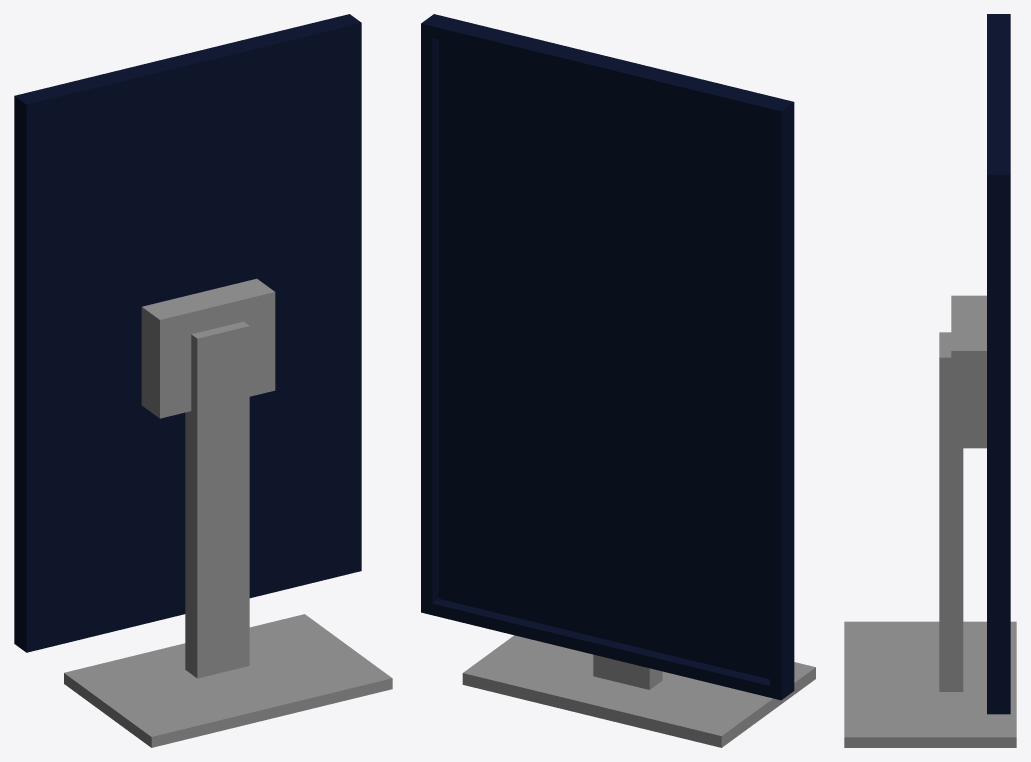
The model's file is Monitor_02_snaps001.fbx.
3 views of the same model, side by side, from view 1: azimuth 30°, elevation 25°; view 2: azimuth 150°, elevation 25°; view 3: azimuth 270°, elevation 25° (orthographic). The views are drawn at different scales.
Parts seen in each view (by area): view 1: Monitor_02_snaps001; view 2: Monitor_02_snaps001; view 3: Monitor_02_snaps001.
Part boxes in pixels (x1=…): Monitor_02_snaps001: x1=14, y1=14, x2=392, y2=747; Monitor_02_snaps001: x1=421, y1=14, x2=815, y2=747; Monitor_02_snaps001: x1=844, y1=14, x2=1016, y2=747.
Size of the model in its own units: 50 by 85.94 by 22.66.
